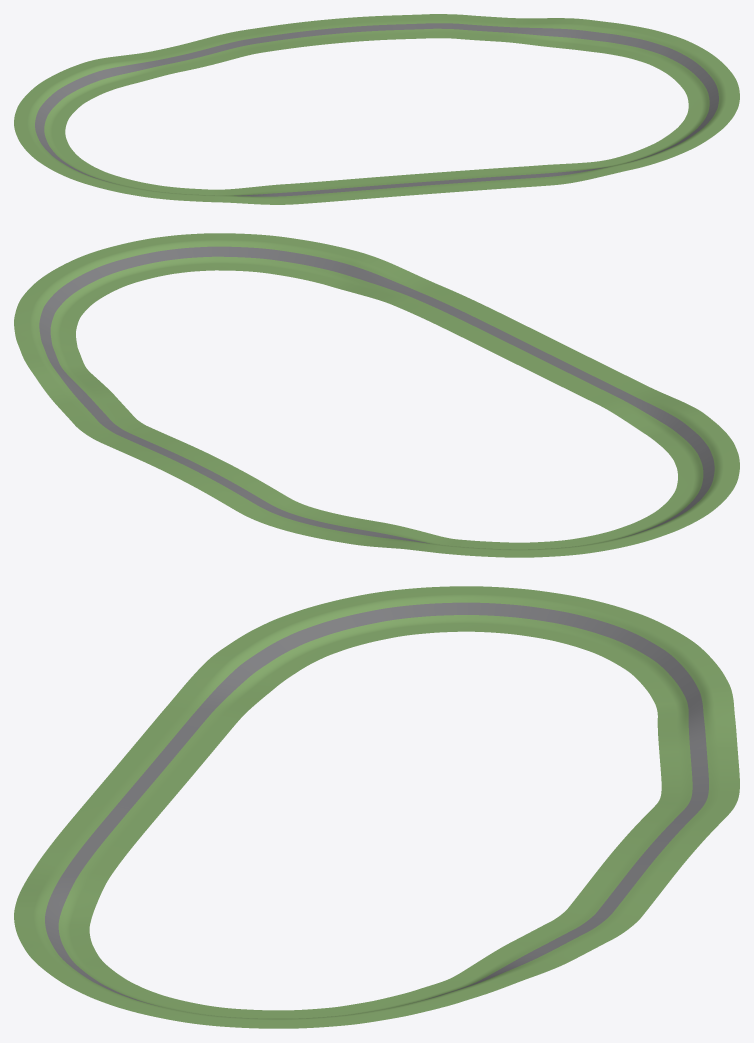
Rendered from road_mesh.glb.
3 views of the same model, one above another, from view 1: azimuth 30°, elevation 25°; view 2: azimuth 150°, elevation 25°; view 3: azimuth 270°, elevation 25° (orthographic). The views are drawn at different scales.
Visible parts, largest first — view 1: road_11, road_12, road_02, road_00, road_13, road_01, road_10, road_06, road_07, road_03, road_09, road_08 (+2 smaller); view 2: road_09, road_10, road_08, road_05, road_06, road_11, road_00, road_07, road_12, road_04, road_13, road_01 (+2 smaller); view 3: road_03, road_04, road_05, road_02, road_01, road_13, road_07, road_06, road_08, road_00, road_12, road_09 (+2 smaller).
Boxes of the visible parts, x1,y1,x2,y2 form: road_11: [577, 20, 707, 72]; road_12: [459, 15, 593, 49]; road_02: [19, 58, 129, 118]; road_00: [210, 18, 346, 58]; road_13: [337, 14, 468, 42]; road_01: [103, 37, 233, 84]; road_10: [666, 52, 739, 117]; road_06: [279, 175, 410, 204]; road_07: [402, 166, 533, 195]; road_03: [14, 104, 83, 163]; road_09: [628, 110, 736, 162]; road_08: [523, 154, 657, 186]; road_09: [163, 233, 329, 279]; road_10: [36, 237, 181, 304]; road_08: [305, 245, 455, 311]; road_05: [603, 388, 730, 457]; road_06: [505, 339, 650, 406]; road_11: [14, 282, 91, 362]; road_00: [169, 458, 311, 528]; road_07: [409, 292, 552, 358]; road_12: [22, 354, 132, 422]; road_04: [659, 439, 739, 511]; road_13: [73, 416, 216, 473]; road_01: [278, 507, 440, 549]; road_03: [455, 586, 648, 653]; road_04: [268, 586, 458, 657]; road_05: [169, 623, 322, 717]; road_02: [596, 617, 733, 715]; road_01: [657, 702, 739, 792]; road_13: [549, 852, 685, 941]; road_07: [46, 777, 179, 864]; road_06: [107, 703, 240, 790]; road_08: [14, 851, 118, 939]; road_00: [612, 790, 739, 860]; road_12: [437, 922, 607, 993]; road_09: [15, 927, 154, 1002].
Bounding box in the file's own units: 1014 × 22.35 × 704.
